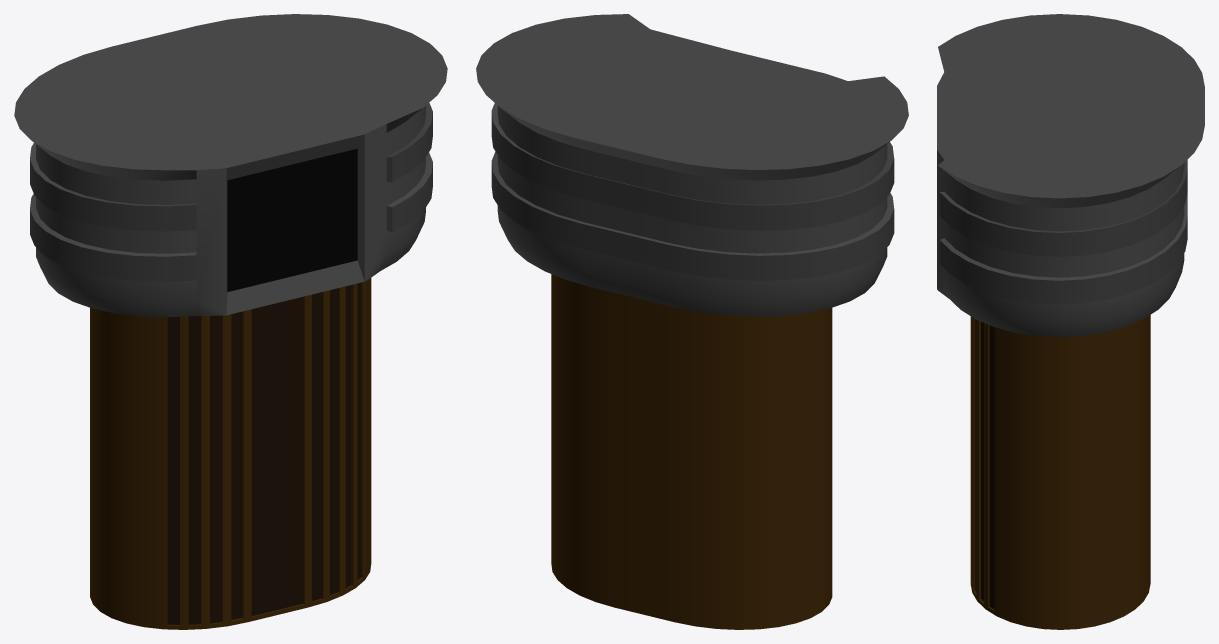
File: Podium.fbx
3 views of the same model, side by side, from view 1: azimuth 30°, elevation 25°; view 2: azimuth 150°, elevation 25°; view 3: azimuth 270°, elevation 25° (orthographic). The views are drawn at different scales.
Visible parts, largest first — view 1: Circle, Circle.001; view 2: Circle; view 3: Circle.
Part boxes in pixels (x1,y1,x2,y2): Circle: (14,14,447,629); Circle.001: (227,148,357,291); Circle: (476,14,908,629); Circle: (937,14,1204,629).
Size of the model in its own units: 104 by 122 by 64.01.
